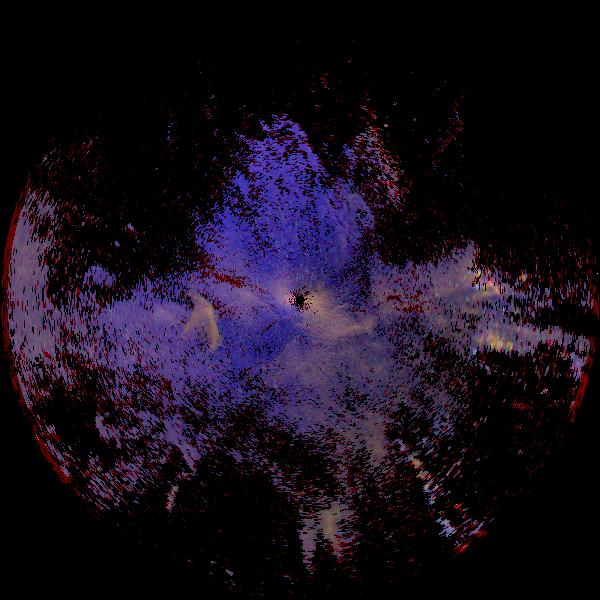roost: (92, 255, 257, 420)
